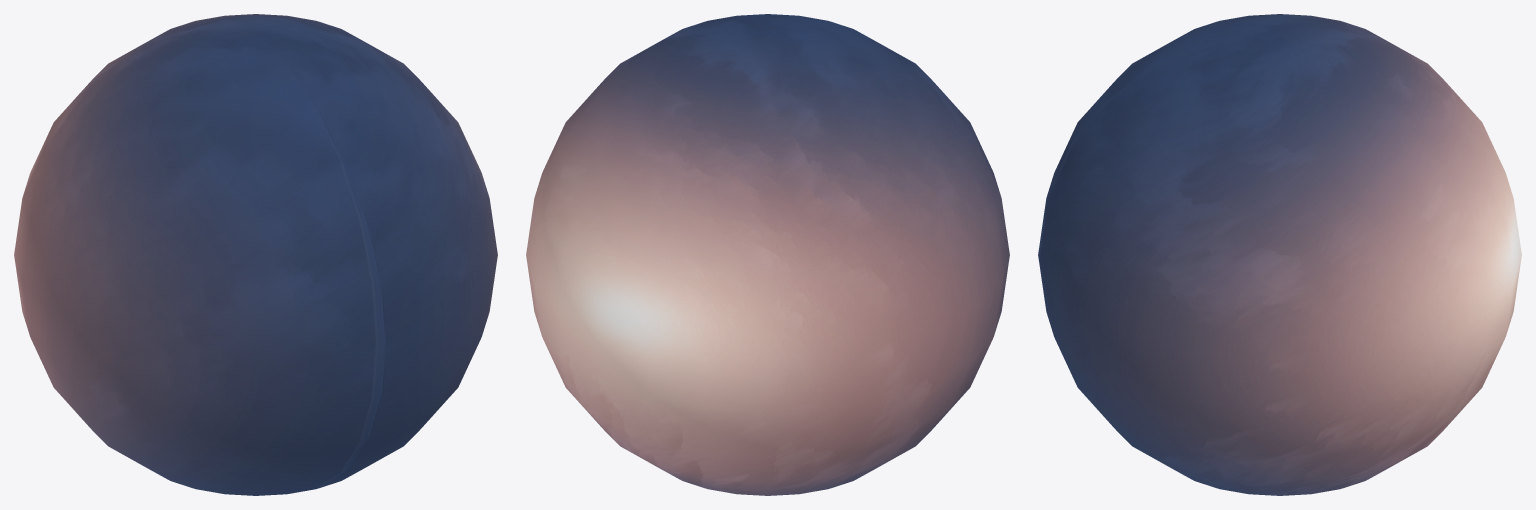
File: clouds.gltf
3 renders of one model, left to right at view 1: azimuth 30°, elevation 25°; view 2: azimuth 150°, elevation 25°; view 3: azimuth 270°, elevation 25°, orthographic.
Parts seen in each view (by area): view 1: Sky; view 2: Sky; view 3: Sky.
Boxes of the visible parts, x1,y1,x2,y2 form: Sky: [14, 14, 497, 495]; Sky: [526, 14, 1009, 495]; Sky: [1038, 14, 1521, 495].
Size of the model in its own units: 12.02 by 12.02 by 12.02.
6 materials, 6 textured.
